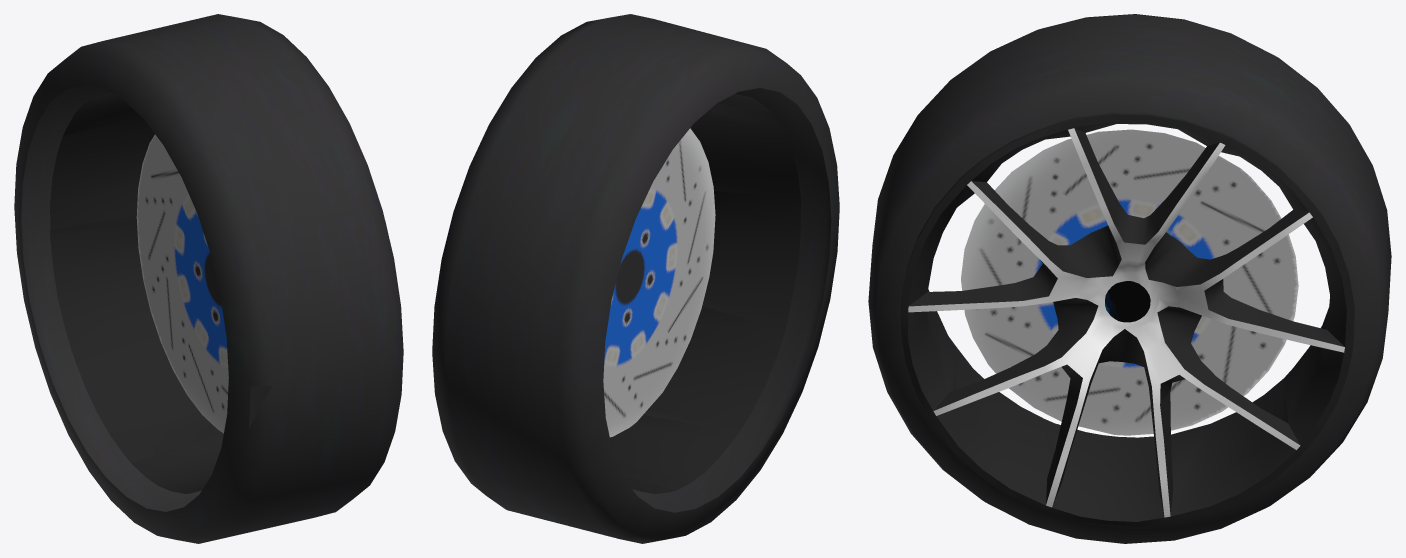
The model's file is WheelBack_L.glb.
The picture shows the model from 3 angles, left to right: view 1: azimuth 30°, elevation 25°; view 2: azimuth 150°, elevation 25°; view 3: azimuth 270°, elevation 25°; orthographic projection.
Visible parts, largest first — view 1: SportCoupe.008; view 2: SportCoupe.008; view 3: SportCoupe.008.
Boxes of the visible parts, bbox=[...] form: SportCoupe.008: bbox=[14, 14, 403, 543]; SportCoupe.008: bbox=[432, 14, 839, 543]; SportCoupe.008: bbox=[868, 14, 1391, 543].
Size of the model in its own units: 0.4201 by 1.05 by 1.06.
1 material, 1 textured.
